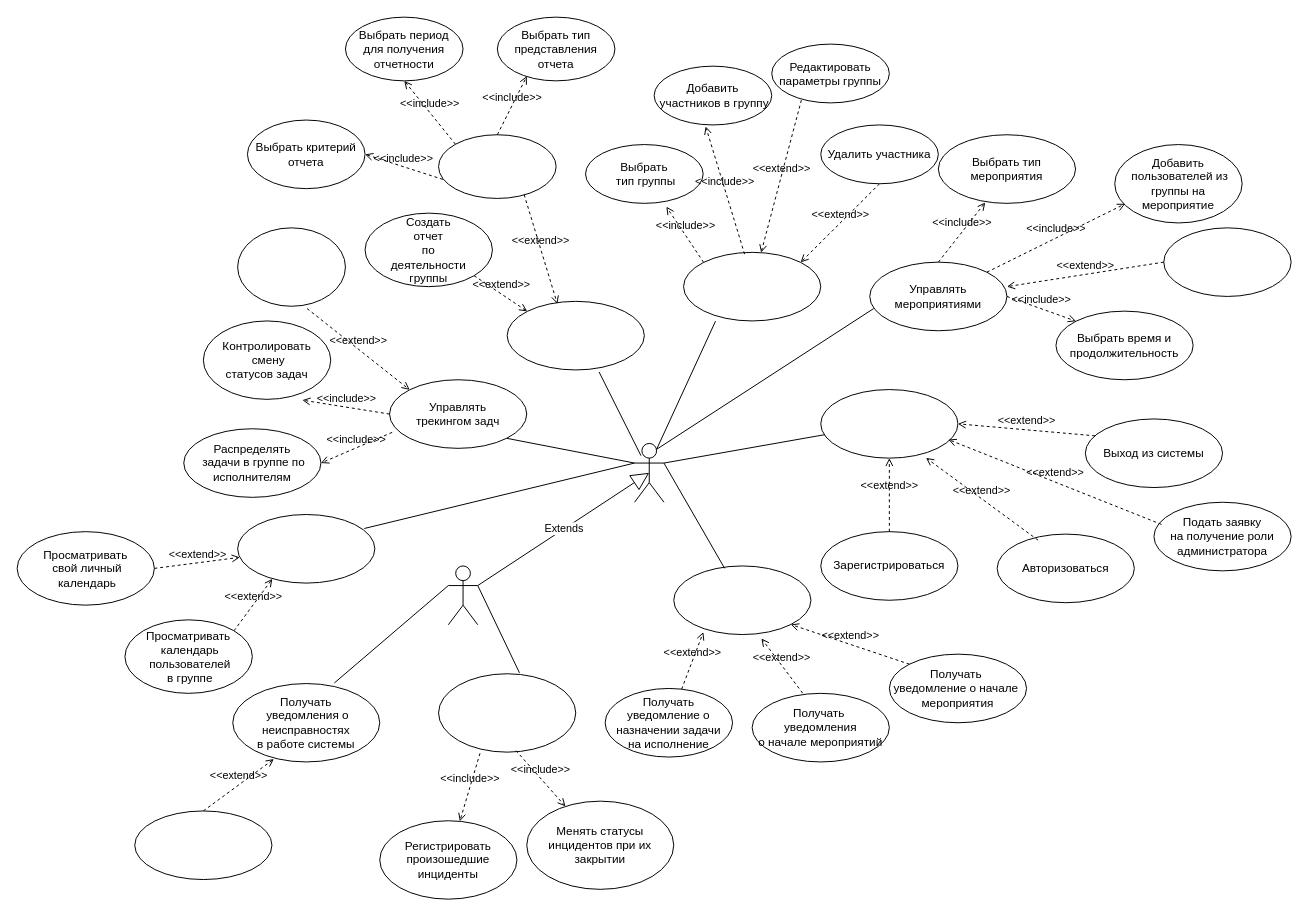
Some shapes in this 1308 by 916 pixel diagram are drawn without their labels. Here are the shapes that lost their labels. From the top down, the centre of each, then its label:
At (497,166): "Создать личный отчет по критериям".
At (291,266): "Отослать уведомление о назначении задачи".
At (1227,261): "Отослать уведомление о приглашении на мероприятие".
At (752,286): "Заниматься менеджментом группы".
At (575,335): "Создавать отчеты о детяельности".
At (889,423): "Управлять своим аккаунтом".
At (649,472): "Пользователь".
At (306,548): "Просматривать визуальный календарь мероприятий".
At (462,595): "Системный администратор".
At (742,600): "Получать уведомления".
At (507,712): "Осуществлять поддержку".
At (203,845): "Получать alert - сообщения в авто-режиме".
